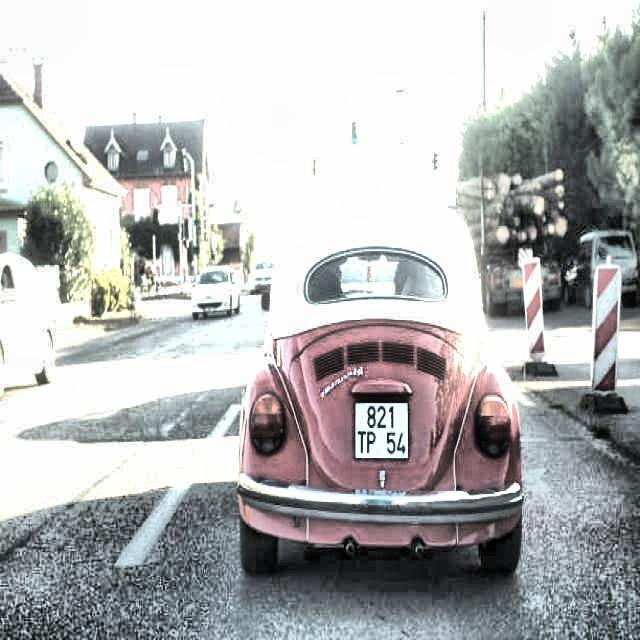carro: (254, 199, 524, 566), (0, 267, 53, 387), (188, 264, 242, 318)
